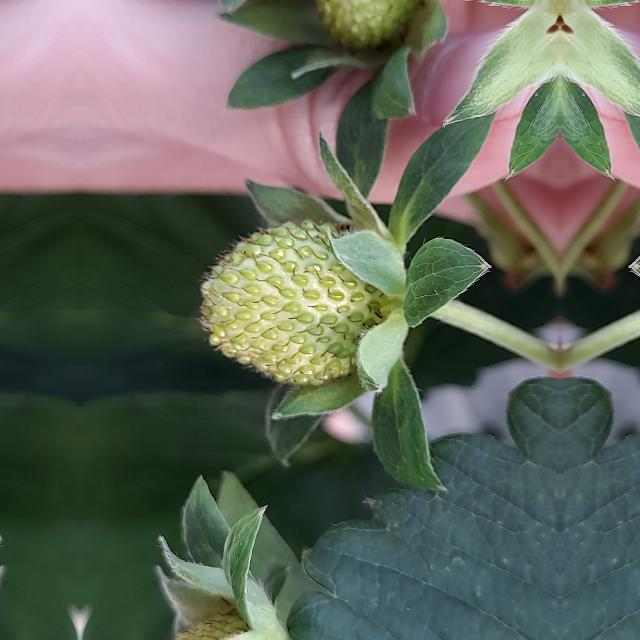Health_25: (194, 215, 390, 388)
